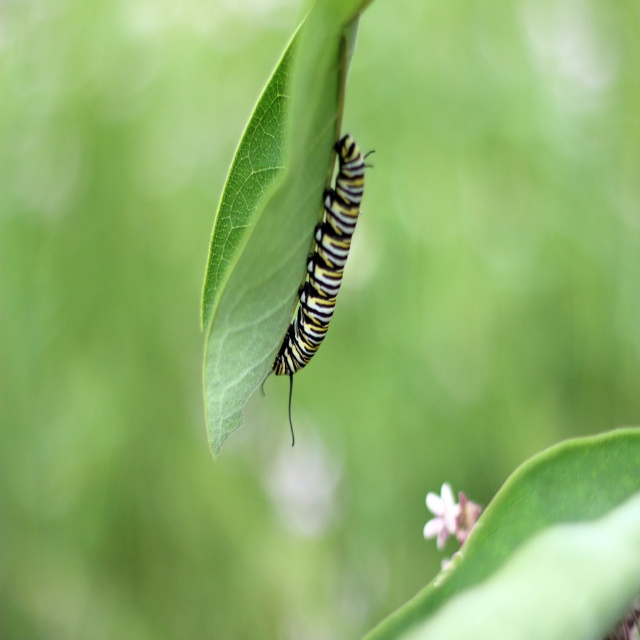Caterpillar: (262, 134, 377, 447)
